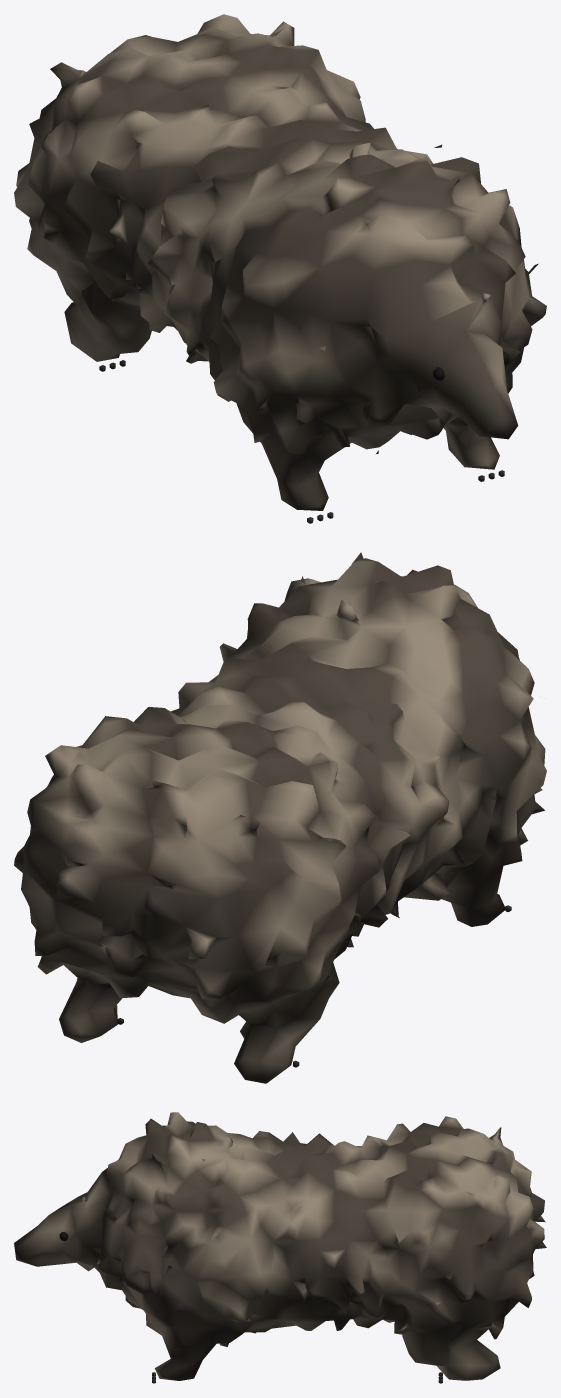
File: igel.glb
The picture shows the model from 3 angles, top to bottom: view 1: azimuth 30°, elevation 25°; view 2: azimuth 150°, elevation 25°; view 3: azimuth 270°, elevation 25°; orthographic projection. The views are drawn at different scales.
Parts seen in each view (by area): view 1: lack; view 2: lack; view 3: lack.
Part boxes in pixels (x1=…): lack: x1=14, y1=14, x2=546, y2=523; lack: x1=14, y1=552, x2=546, y2=1083; lack: x1=14, y1=1112, x2=546, y2=1383.
Bounding box in the file's own units: 0.1545 × 0.1524 × 0.3273.
